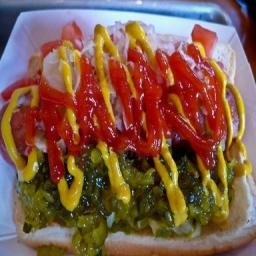hotdog: (1, 101, 32, 165)
